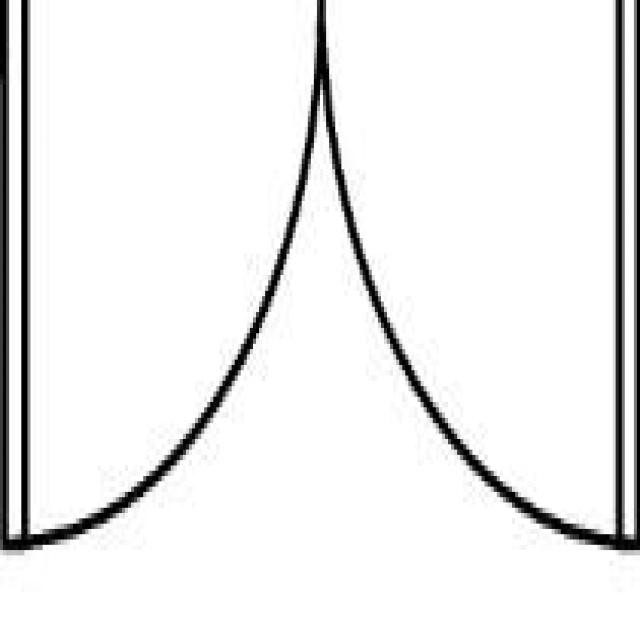door: (0, 0, 637, 540)
